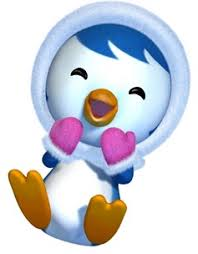Petty: (8, 2, 191, 250)
